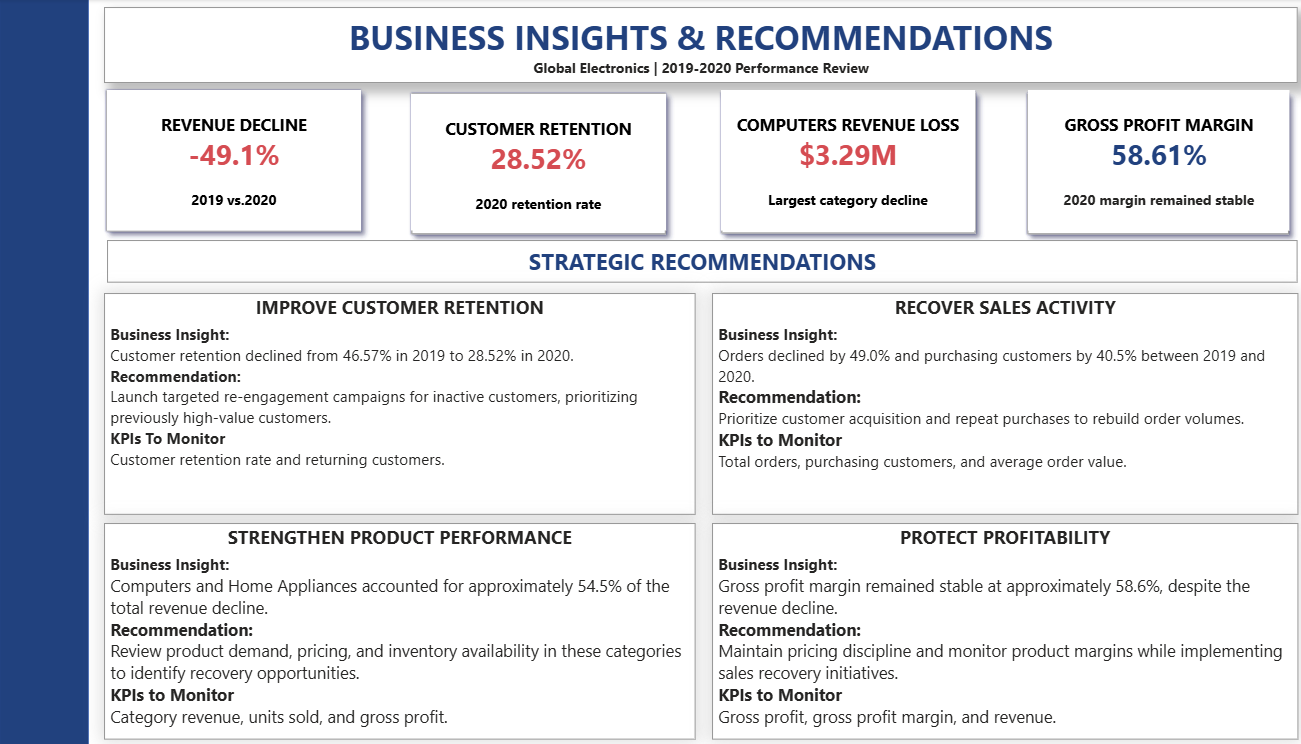

Layout of this report page (visuals, bound fields, positions):
{"tool":"powerbi","page":{"name":"Business insights & Recommendations","canvas":[1280,720],"ordinal":14},"visuals":[{"type":"shape","box":[117,7.7,300.1,47.9],"z":1000},{"type":"textbox","box":[101.2,7.9,1146.4,72.7],"z":2000},{"type":"shape","box":[0,0,86.4,720.1],"z":3000},{"type":"shape","box":[94.3,78.6,262.3,153.2],"z":4000},{"type":"shape","box":[684.7,80.6,262,153.4],"z":5000},{"type":"shape","box":[387,81.5,262.3,153.2],"z":6000},{"type":"shape","box":[978.4,81.5,269.2,153.2],"z":7000},{"type":"textbox","box":[104.1,87.4,243.6,134.6],"z":8000},{"type":"textbox","box":[395.9,91.4,244.6,130.7],"z":9000},{"type":"textbox","box":[693.5,87.4,243.6,134.6],"z":10000},{"type":"textbox","box":[988.2,87.4,251.5,134.6],"z":11000},{"type":"textbox","box":[104.1,231.8,1143.5,41.3],"z":12000},{"type":"textbox","title":"IMPROVE CUSTOMER RETENTION","box":[101.2,281.9,567.8,213.2],"z":13000},{"type":"textbox","title":"RECOVER SALES ACTIVITY","box":[684.7,281.9,562.9,213.2],"z":14000},{"type":"textbox","title":"STRENGTHEN PRODUCT PERFORMANCE","box":[101.2,503,567.8,208.3],"z":15000},{"type":"textbox","title":"PROTECT PROFITABILITY","box":[684.7,503,562.9,208.3],"z":16000}]}

Visuals, with their boxes in screenshot pixels (x1, y1, x2, y2), scaled from the page's 1280x720 canvas onto the 1301x744 screenshot:
shape: <region>119, 8, 424, 57</region>
textbox: <region>103, 8, 1268, 83</region>
shape: <region>0, 0, 88, 743</region>
shape: <region>96, 81, 362, 240</region>
shape: <region>696, 83, 962, 242</region>
shape: <region>393, 84, 660, 243</region>
shape: <region>994, 84, 1268, 243</region>
textbox: <region>106, 90, 353, 229</region>
textbox: <region>402, 94, 651, 230</region>
textbox: <region>705, 90, 952, 229</region>
textbox: <region>1004, 90, 1260, 229</region>
textbox: <region>106, 240, 1268, 282</region>
"IMPROVE CUSTOMER RETENTION" textbox: <region>103, 291, 680, 512</region>
"RECOVER SALES ACTIVITY" textbox: <region>696, 291, 1268, 512</region>
"STRENGTHEN PRODUCT PERFORMANCE" textbox: <region>103, 520, 680, 735</region>
"PROTECT PROFITABILITY" textbox: <region>696, 520, 1268, 735</region>
